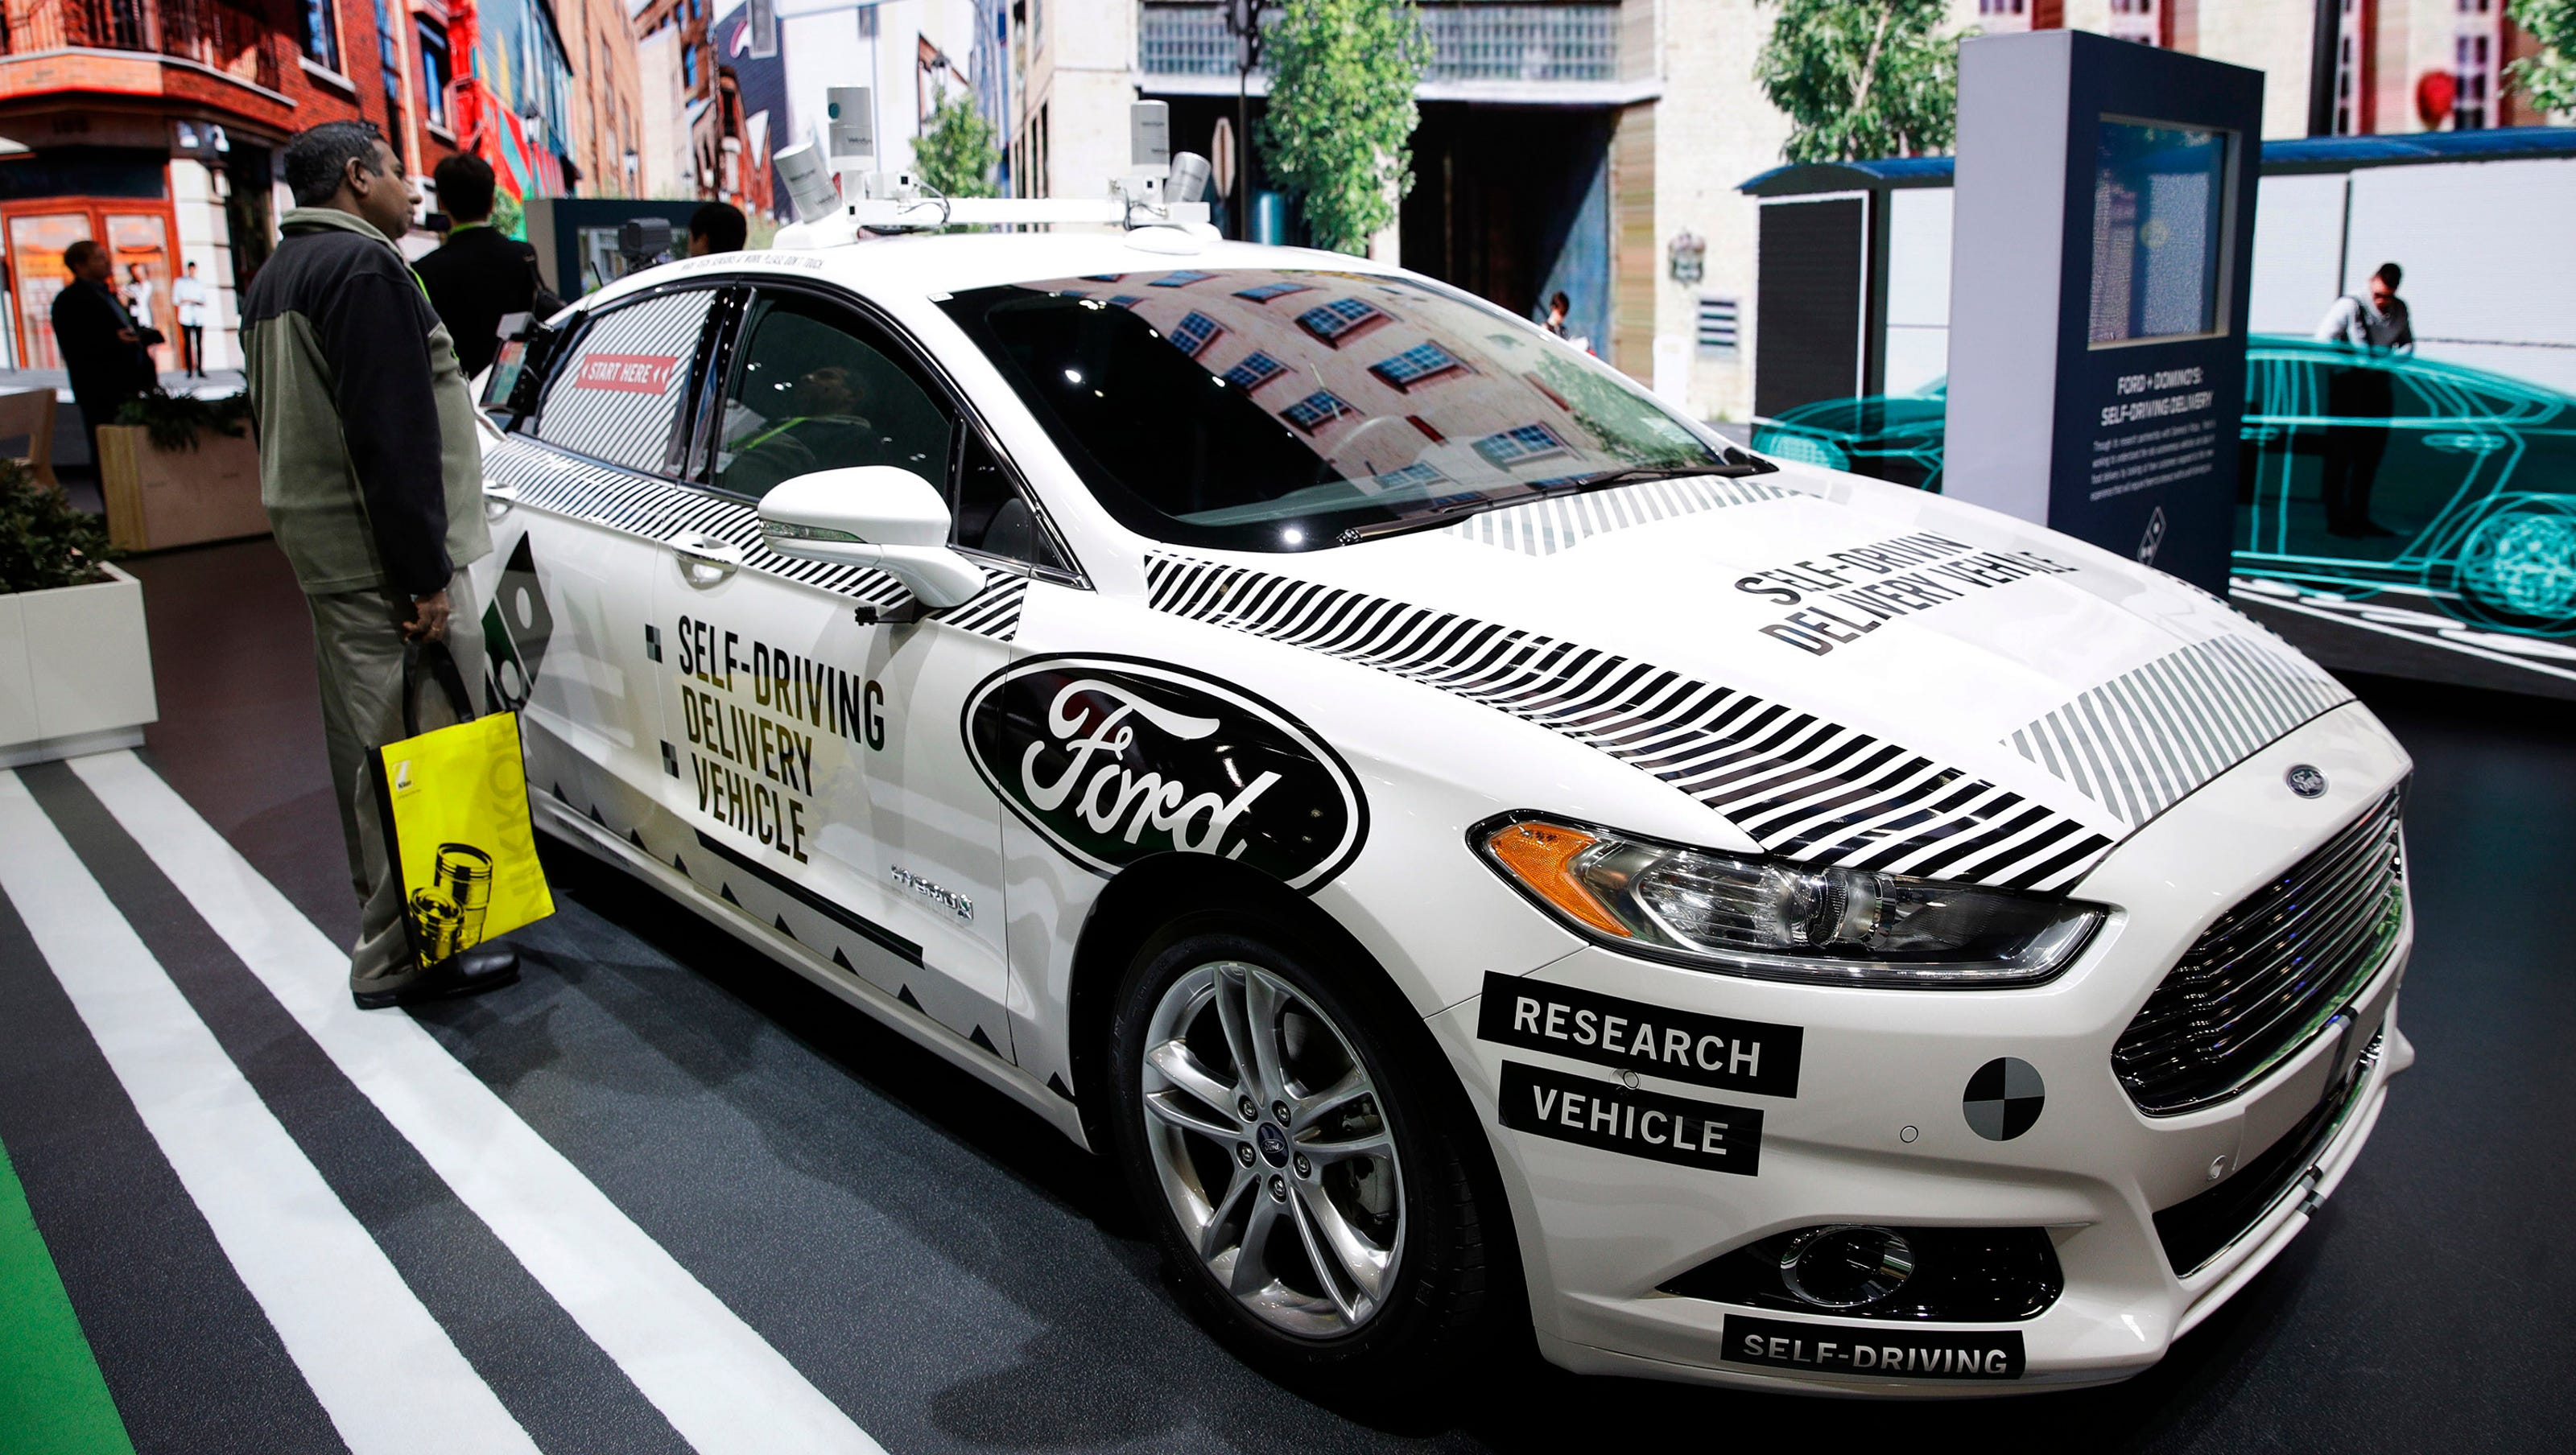Car: (469, 184, 2450, 1368)
